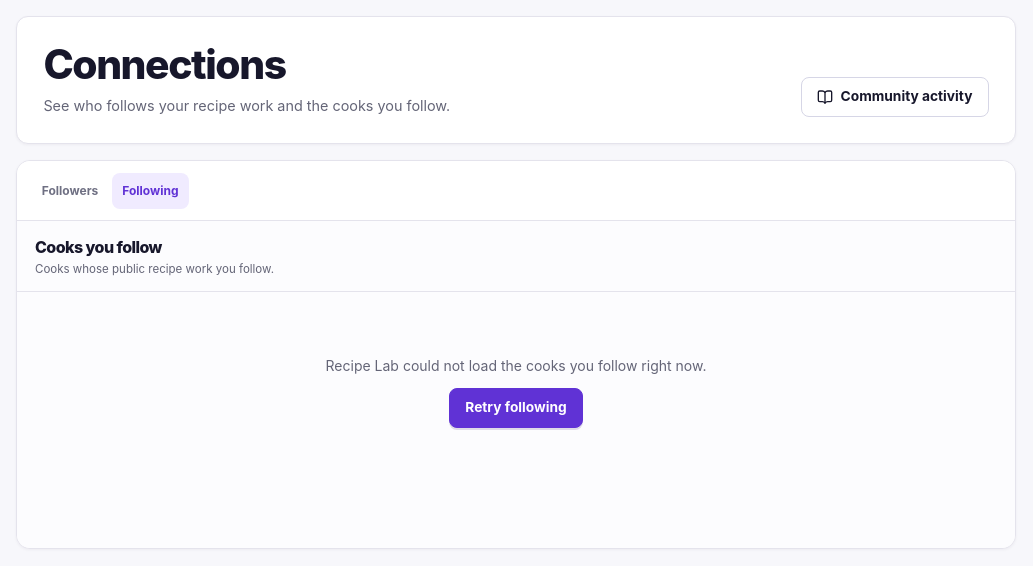
Test: MemberConnectionsWorkspace › recovers from a Following load error
Expected: the message shows "Recipe Lab could not load the cooks you follow right now.", x1=326 y1=357 x2=706 y2=374
Click the button "Retry following".
click(516, 408)  # box x1=449 y1=388 x2=583 y2=428
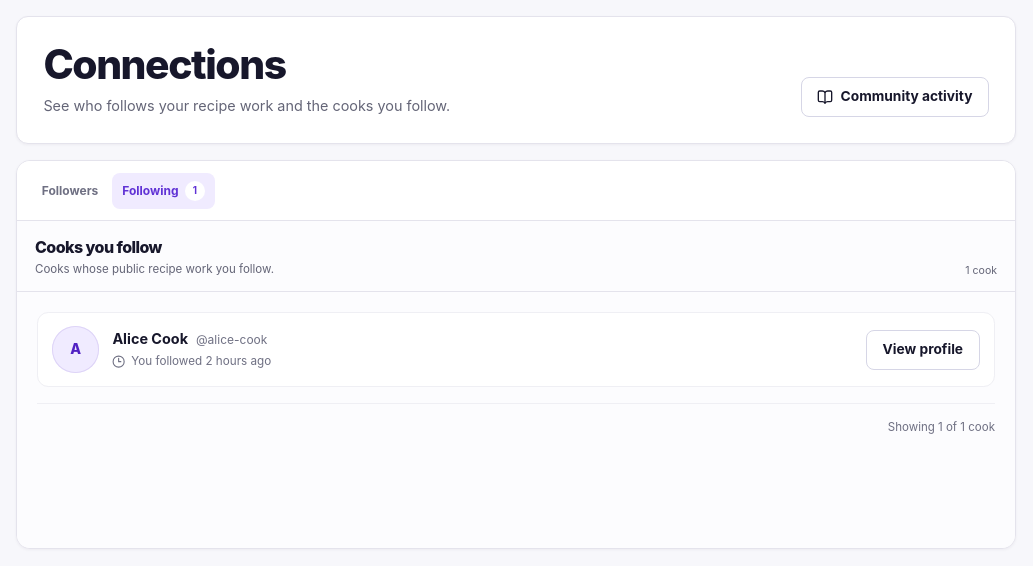
Expected: the list named "Cooks you follow" is shown, x1=37 y1=312 x2=995 y2=388
